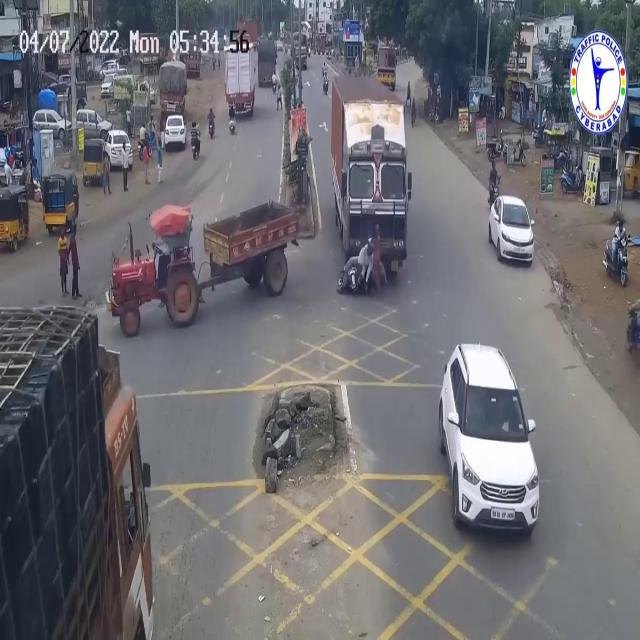accident: (327, 67, 417, 305)
non_accident: (76, 97, 136, 194), (156, 55, 190, 157)
